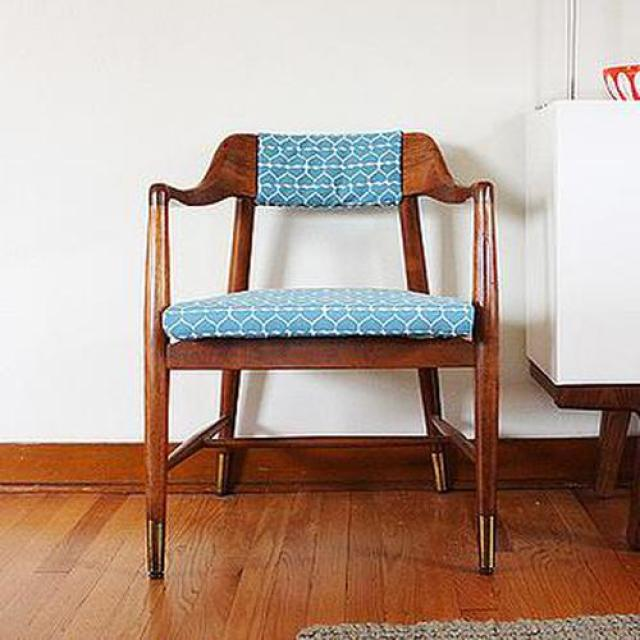chair: (145, 131, 500, 584)
